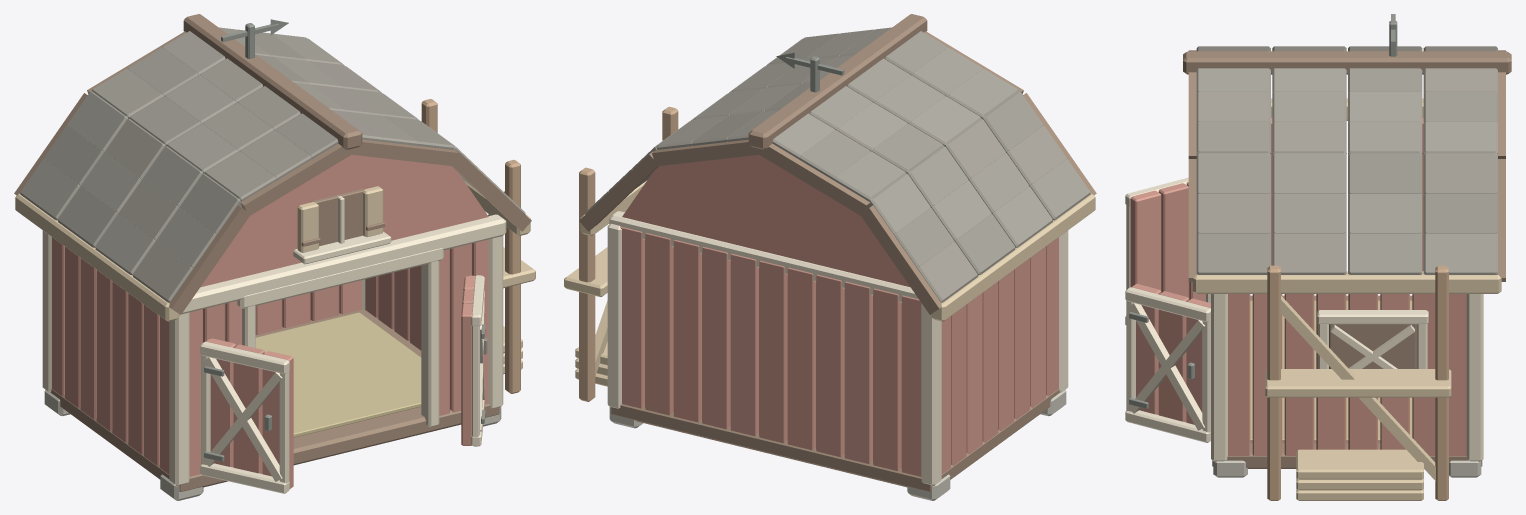
File: crafted-barn-upgrading.glb
The picture shows the model from 3 angles, left to right: view 1: azimuth 30°, elevation 25°; view 2: azimuth 150°, elevation 25°; view 3: azimuth 270°, elevation 25°; orthographic projection.
Visible parts, largest first — view 1: gable-1, hay-floor, floor, header-1, ridge-cap, corner-post-1, eave-fascia, door-frame-1, scaffold-post-1, corner-post-3, door-top, siding-13 (+73 smaller); view 2: gable, floor, siding-2, siding-4, siding-6, siding-8, siding-9, siding-5, siding-7, siding-3, siding-1, ridge-cap (+54 smaller); view 3: ridge-cap, eave-fascia-1, scaffold-platform, extension-planks-2, siding-26, siding-24, roof-tile-45, roof-tile-47, door-siding-1, roof-tile-36, roof-tile-37, roof-tile-38 (+56 smaller).
Boxes of the visible parts, <box> form: gable-1: <box>200,154,488,287</box>; hay-floor: <box>255,312,421,437</box>; floor: <box>50,309,499,491</box>; header-1: <box>182,214,506,314</box>; ridge-cap: <box>183,14,362,149</box>; corner-post-1: <box>169,312,189,485</box>; eave-fascia: <box>15,193,179,321</box>; door-frame-1: <box>421,260,439,427</box>; scaffold-post-1: <box>505,159,520,393</box>; corner-post-3: <box>488,235,503,408</box>; door-top: <box>237,248,443,308</box>; siding-13: <box>80,258,96,419</box>; gable: <box>622,154,910,287</box>; floor: <box>611,389,1059,491</box>; siding-2: <box>844,281,872,463</box>; siding-4: <box>787,267,815,450</box>; siding-6: <box>730,254,758,436</box>; siding-8: <box>673,240,701,422</box>; siding-9: <box>645,233,673,415</box>; siding-5: <box>759,260,787,443</box>; siding-7: <box>702,247,730,429</box>; siding-3: <box>816,274,844,457</box>; siding-1: <box>873,288,901,470</box>; ridge-cap: <box>748,14,927,149</box>; ridge-cap: <box>1183,51,1511,74</box>; eave-fascia-1: <box>1193,271,1501,293</box>; scaffold-platform: <box>1265,369,1451,397</box>; extension-planks-2: <box>1296,449,1423,479</box>; siding-26: <box>1228,294,1250,455</box>; siding-24: <box>1284,294,1314,455</box>; roof-tile-45: <box>1348,233,1422,274</box>; roof-tile-47: <box>1196,233,1270,274</box>; door-siding-1: <box>1159,183,1189,298</box>; roof-tile-36: <box>1423,153,1497,193</box>; roof-tile-37: <box>1348,153,1422,193</box>; roof-tile-38: <box>1272,153,1346,193</box>.
Bounding box in the file's own units: 2.61 × 2.28 × 2.12.
